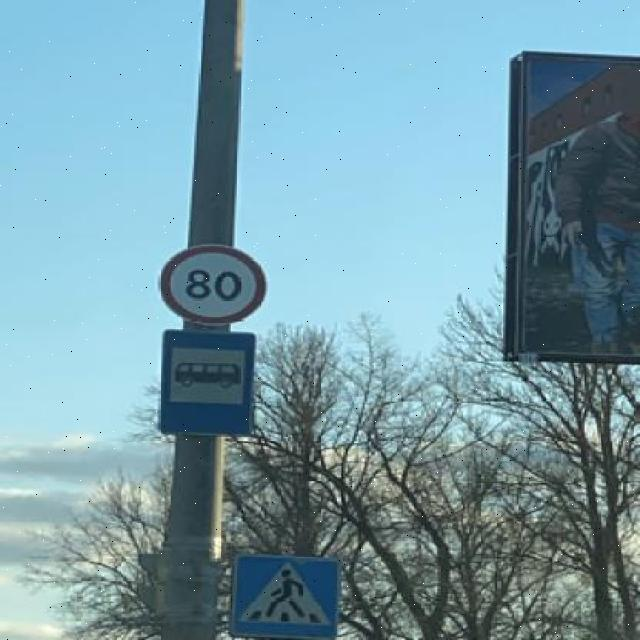speed limit 80: (155, 244, 267, 326)
